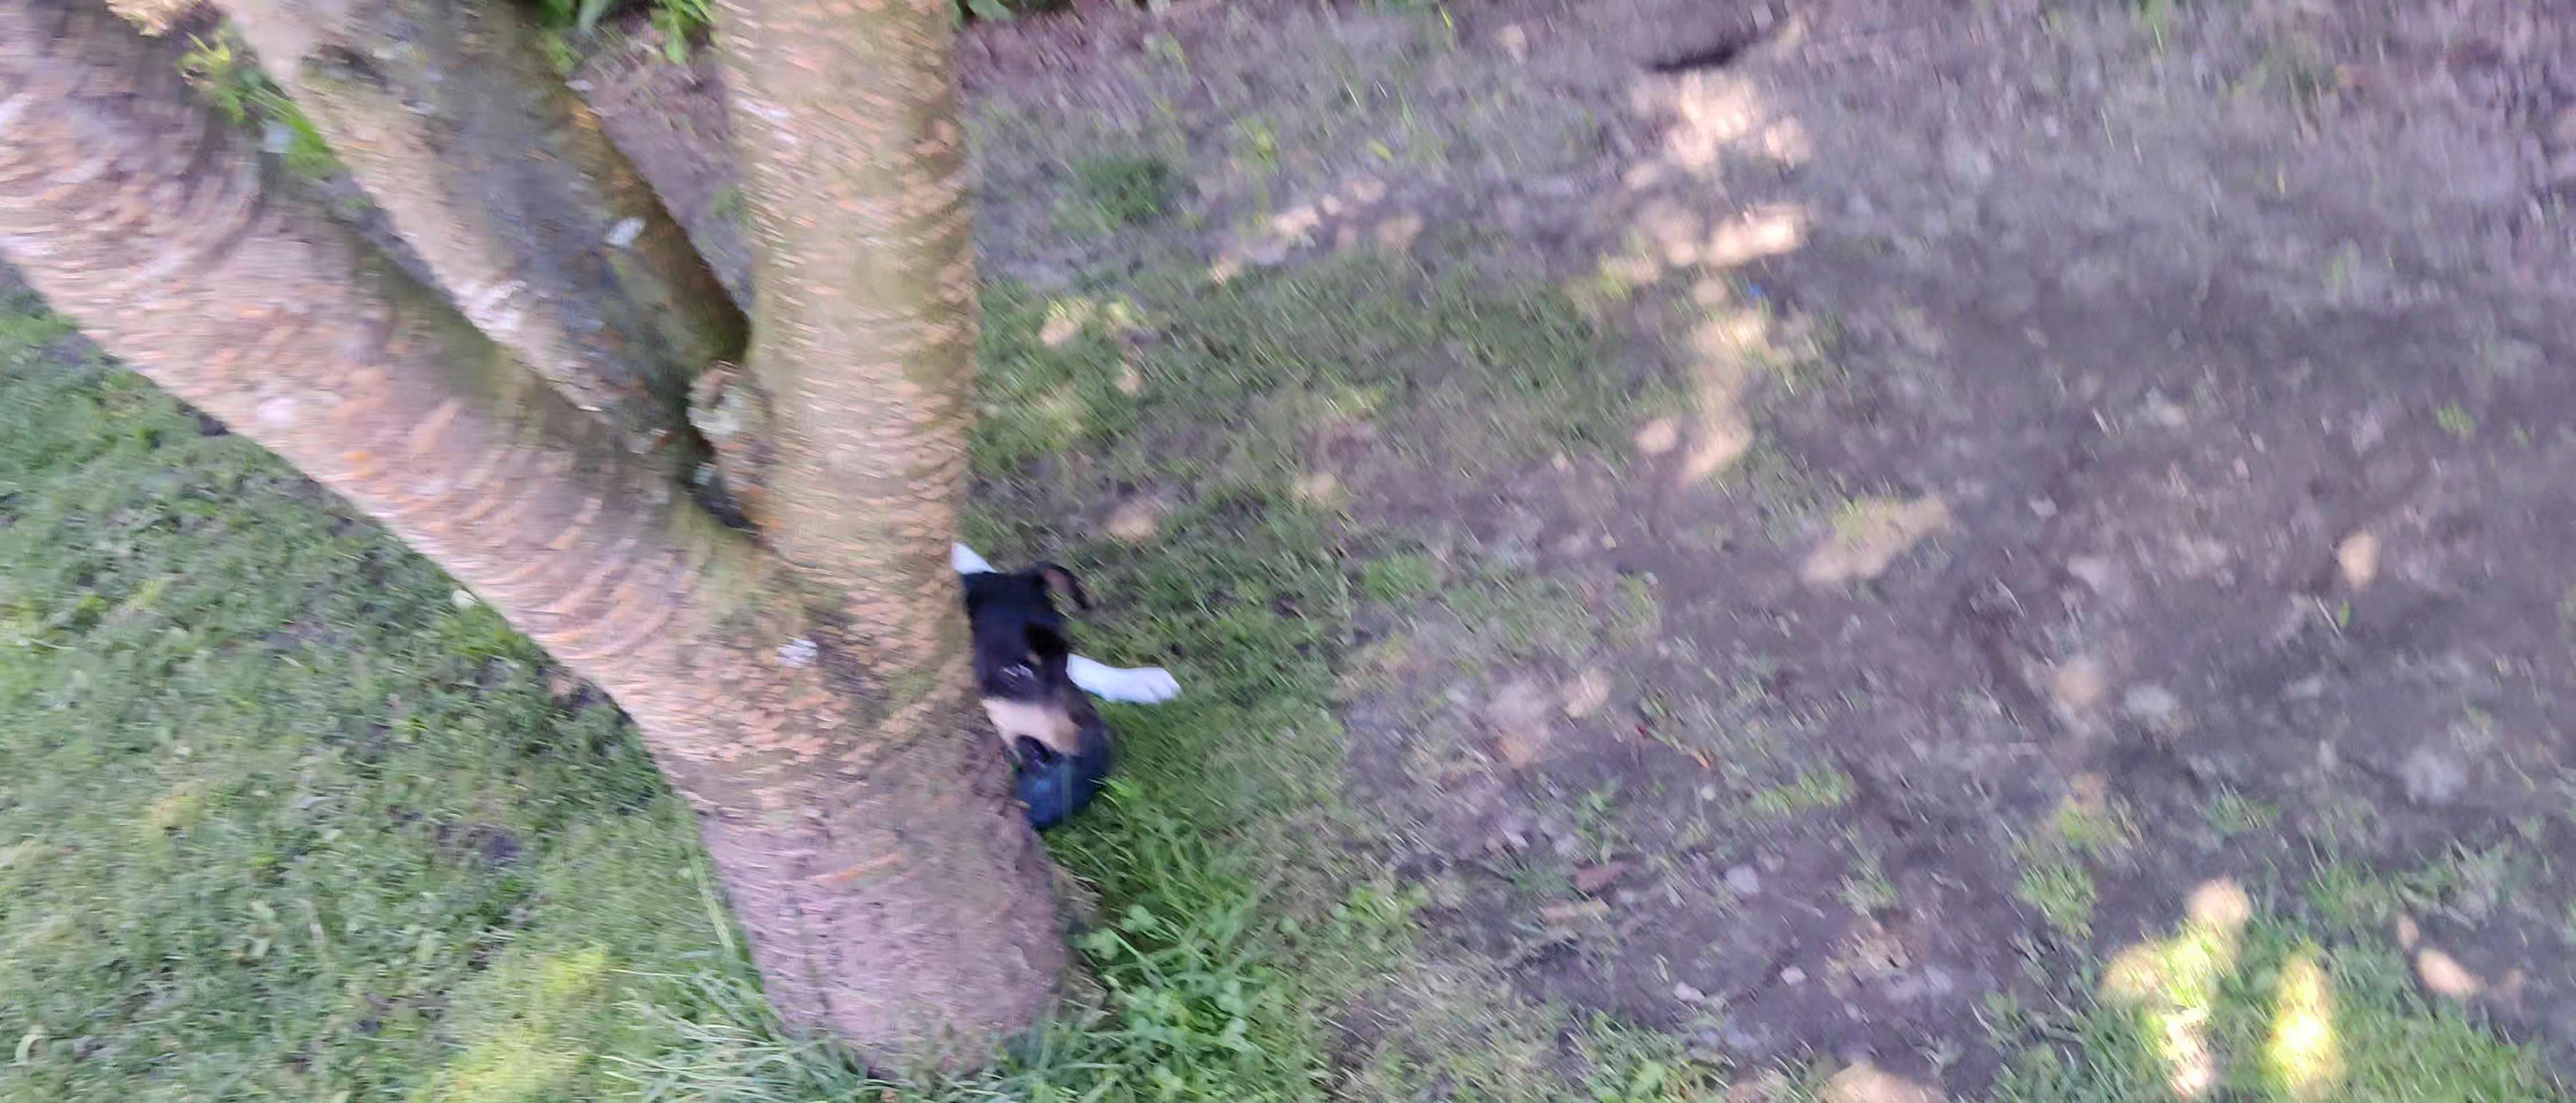Dog: (915, 506, 1201, 781)
